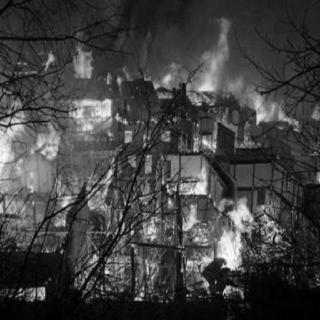Fire: (2, 26, 314, 292)
